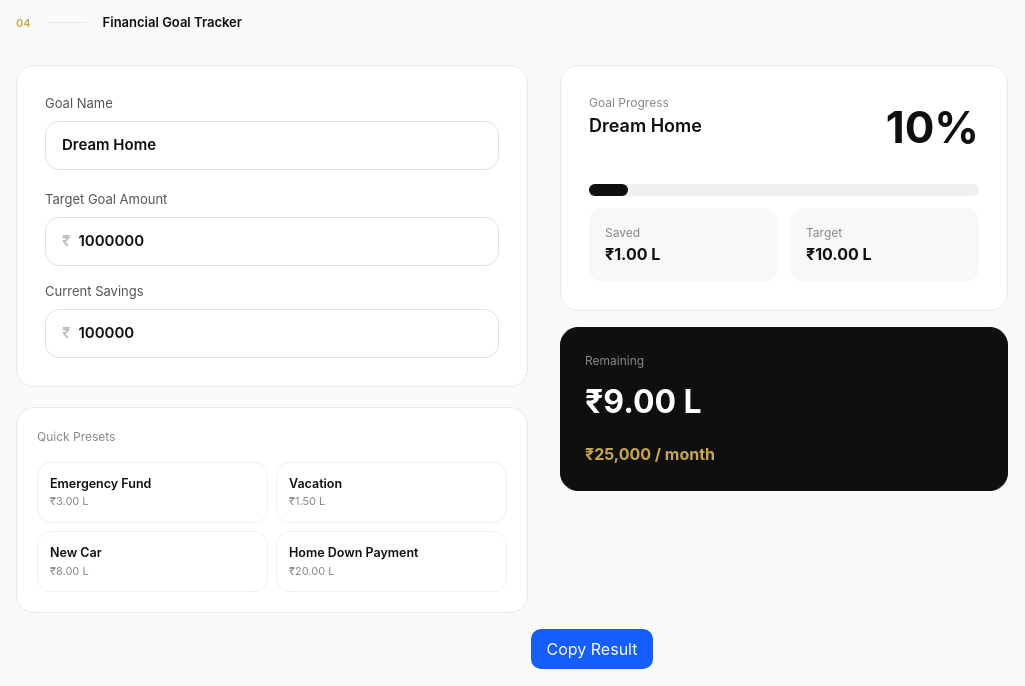
it: GoalTracker › updates when preset is clicked
The width and height of the screenshot is (1025, 686).
Click the button "Emergency Fund ₹3.00 L": [152, 492] box [37,462,268,523]
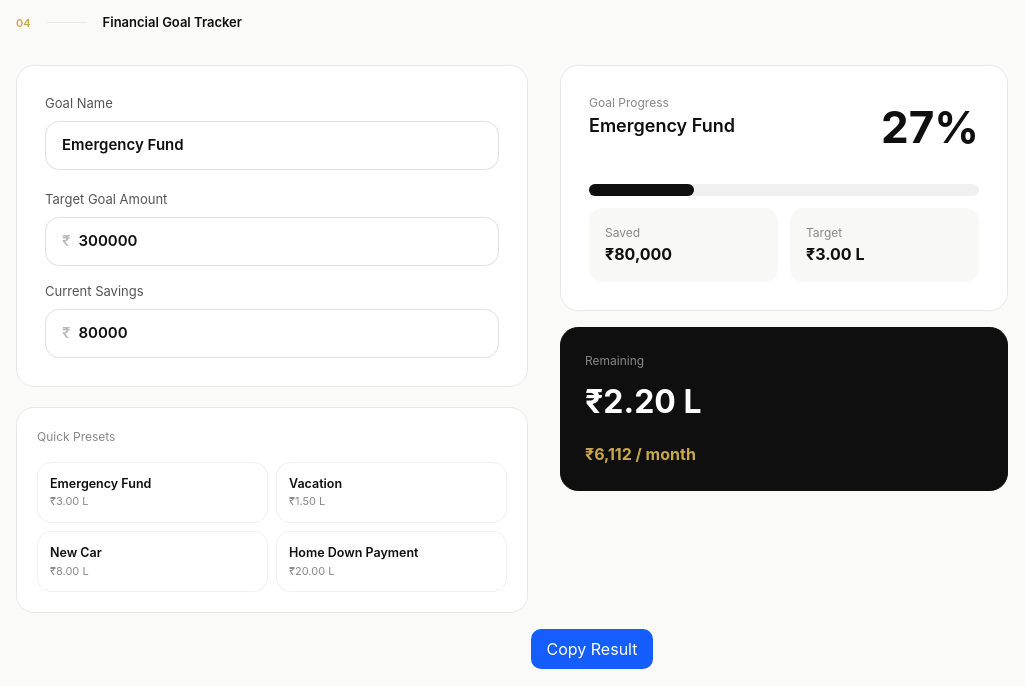
Result: the field showing "Emergency Fund" is shown at [45,121,499,170]
Result: the text "27%" is shown at [881,94,979,160]
Result: the text "₹2.20 L" is shown at [585,382,702,420]
